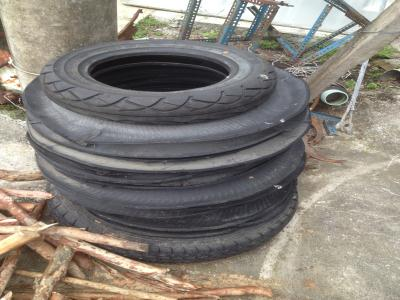tire: (37, 38, 281, 129)
